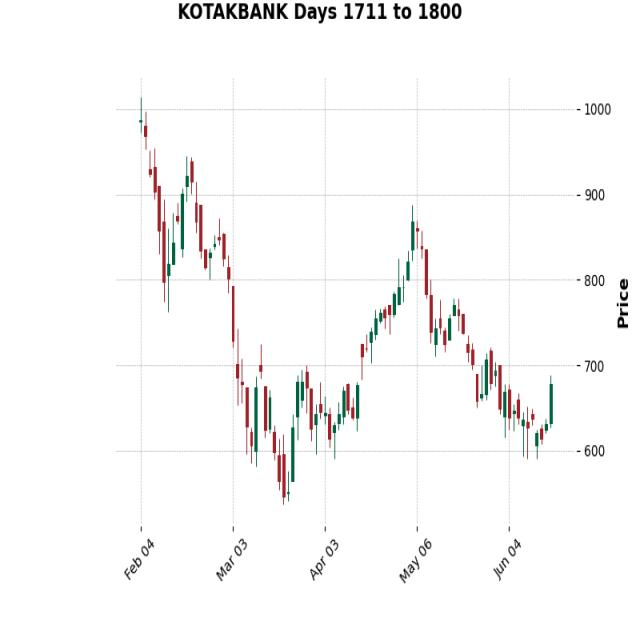Descending Triangle: (354, 186, 524, 457)
